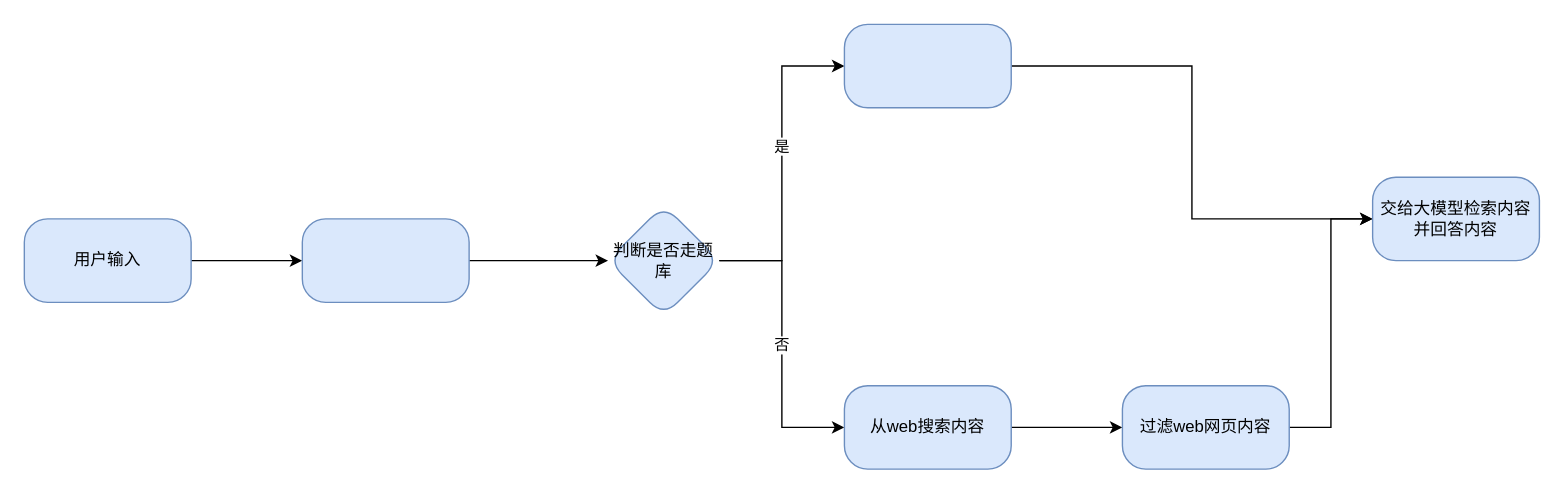
Image size: 1564x493. Some labels were removed from this diagram. The shapes that lost their labels are listed below. From the top down, each one's centre as x and y in pixels, then its label:
(x=927, y=65): 知识库搜索
(x=385, y=260): 通过代码简单过滤一下生成判断值0/1
